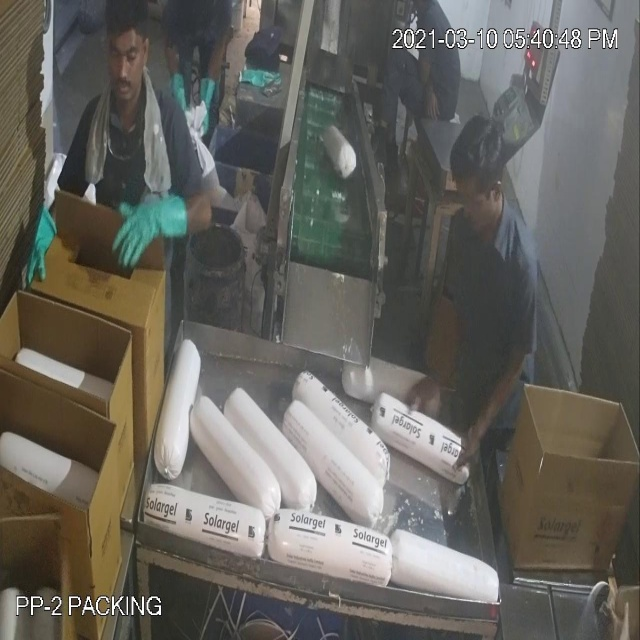Guantes: (111, 175, 190, 279), (20, 201, 67, 303)
Sin_guantes: (454, 312, 545, 478), (403, 277, 468, 435)
